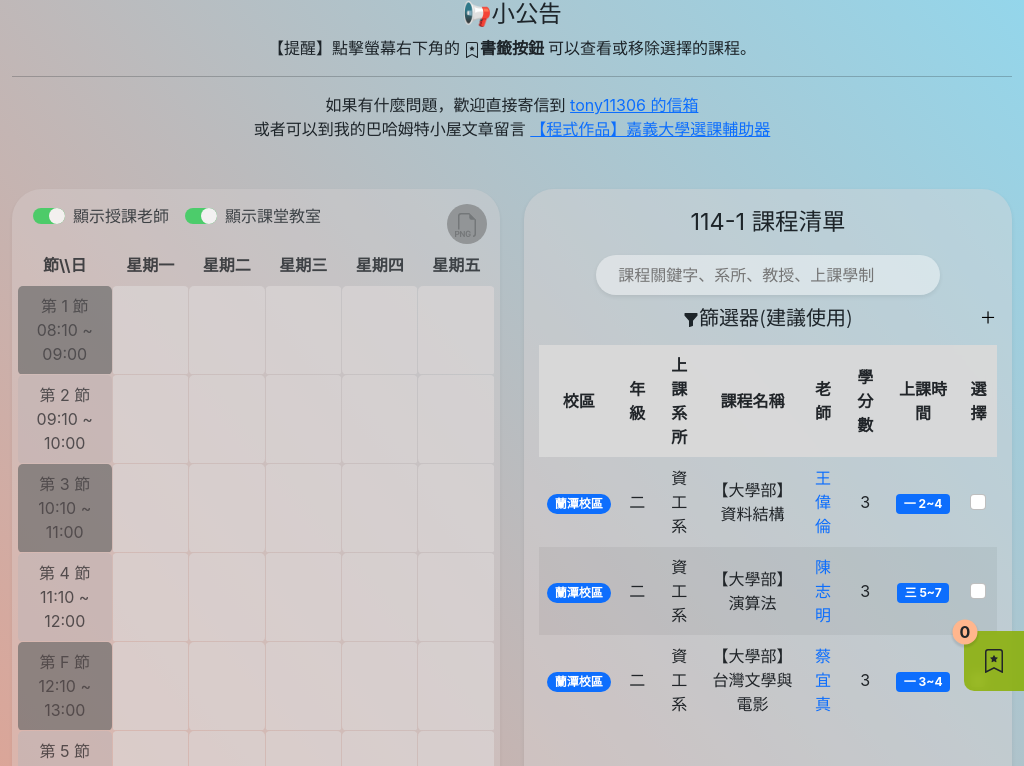
Test: 勾選課程會加進課表
expect the text "【大學部】資料結構" is shown: met, box x1=703 y1=458 x2=802 y2=547
Click the checkbox in the row of "【大學部】資料結構" at (978, 502), box x1=970 y1=494 x2=986 y2=510
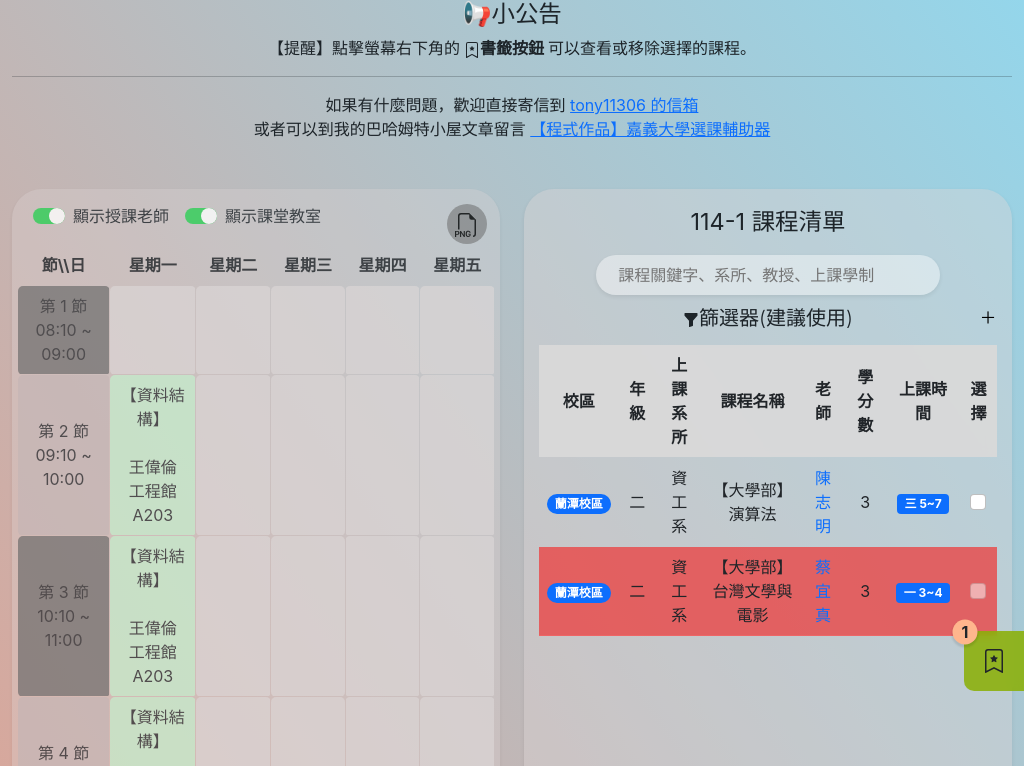
expect the text "【大學部】資料結構" is gone: met
